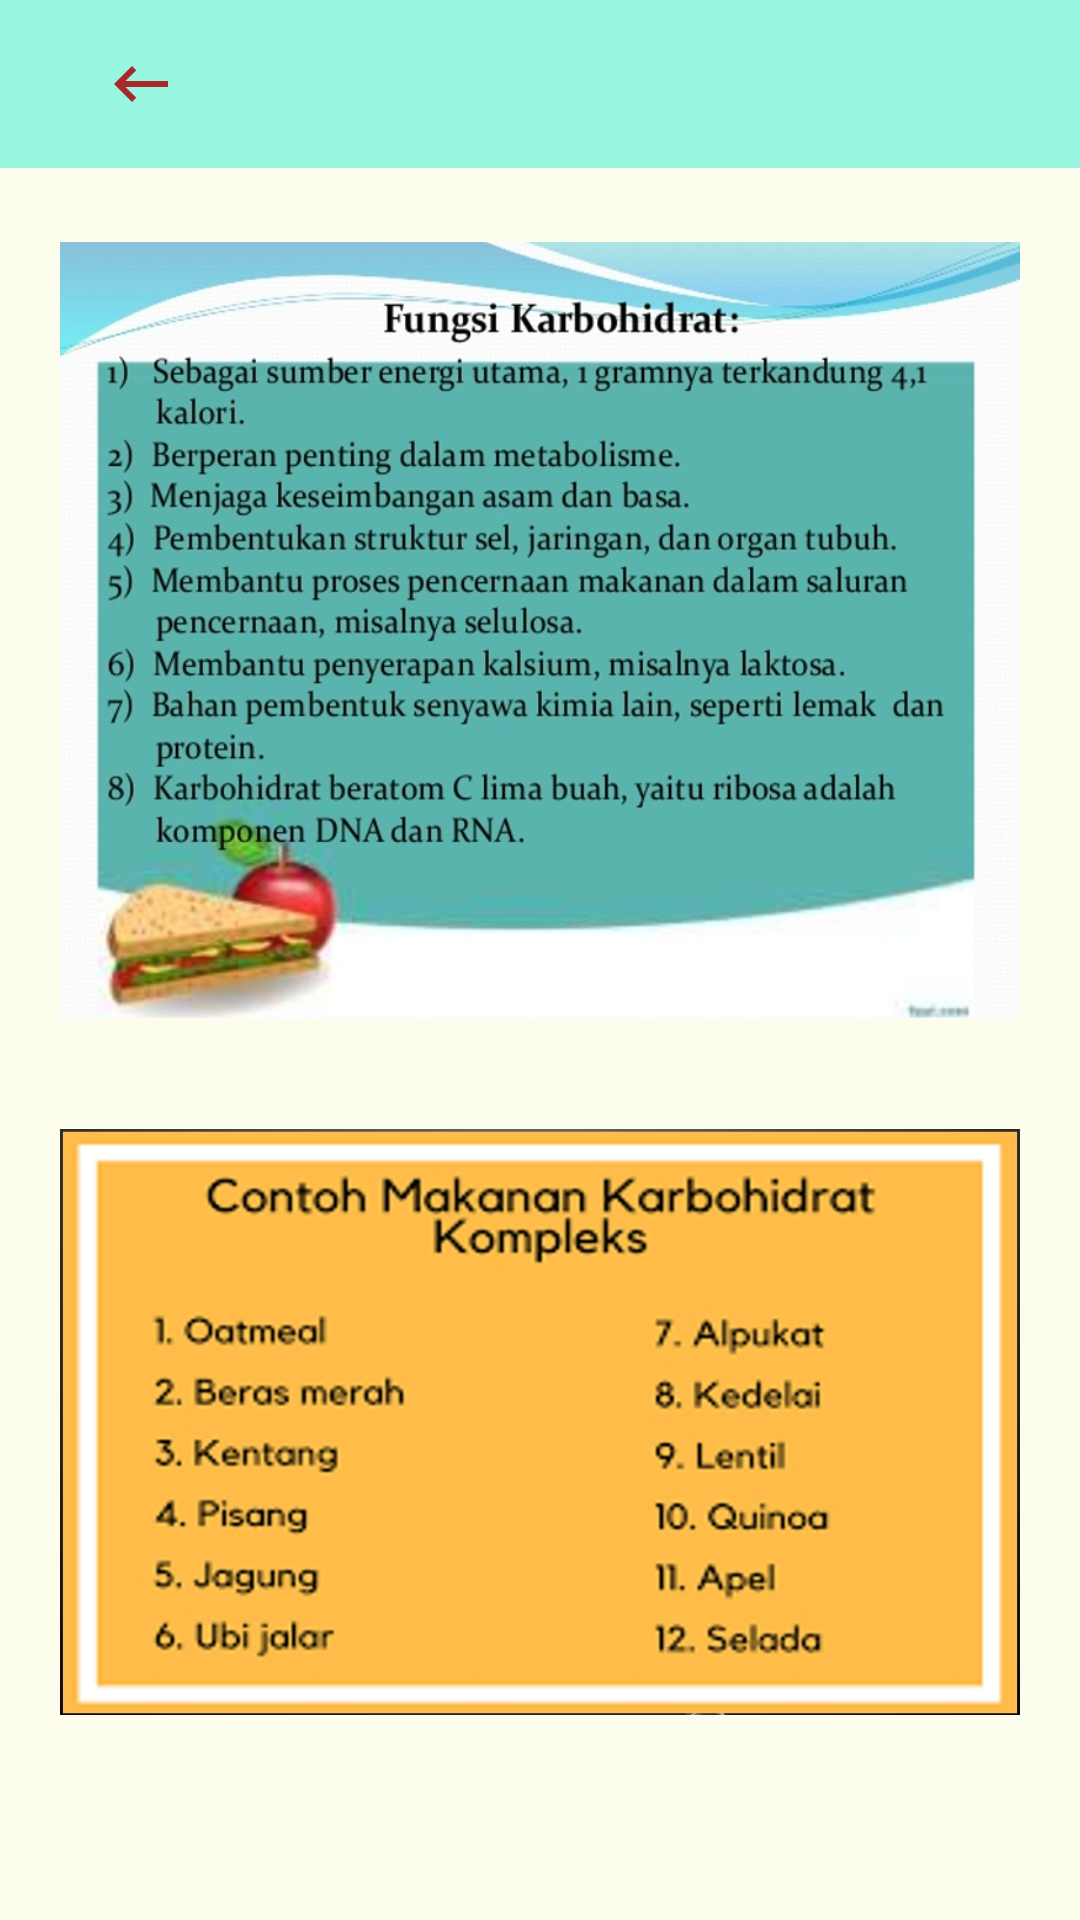

Named icons in this screenshot (1080w x 1920h) and their bounding boxes, [x1,y1,x2,y2]:
arrow back: [114,66,168,102]
